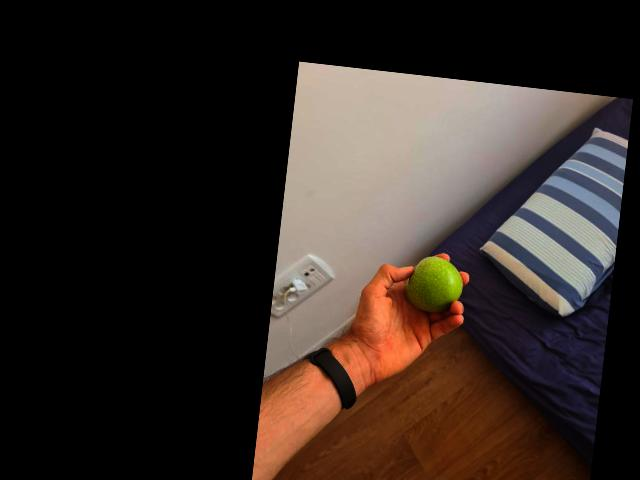apple: (405, 252, 466, 320)
